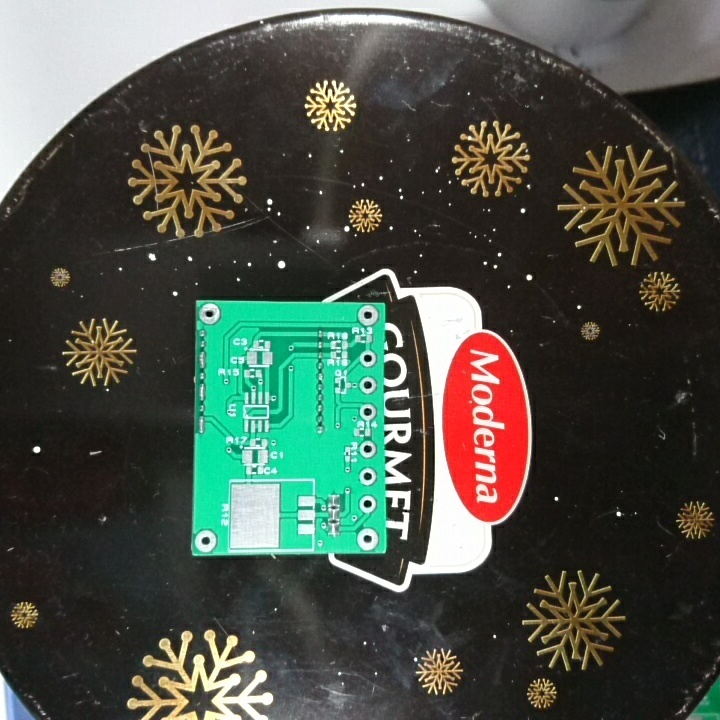F: (193, 526, 221, 555), (354, 526, 381, 552), (197, 302, 222, 326), (355, 303, 380, 327), (357, 438, 379, 462), (356, 492, 377, 516), (357, 375, 378, 397), (357, 402, 379, 423), (357, 466, 377, 489), (357, 349, 378, 370)
P: (195, 380, 208, 404), (196, 348, 208, 369), (195, 413, 206, 434)
